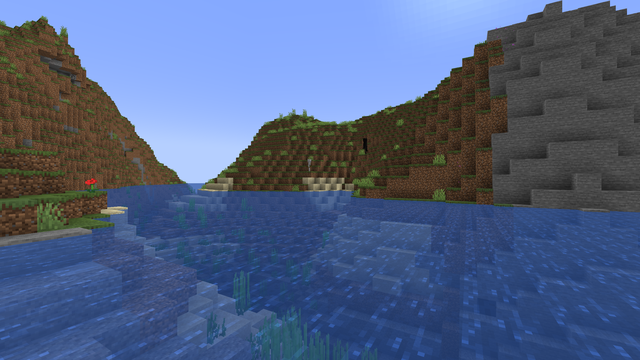endermens: (362, 137, 366, 150)
squelettes: (306, 159, 311, 168)
